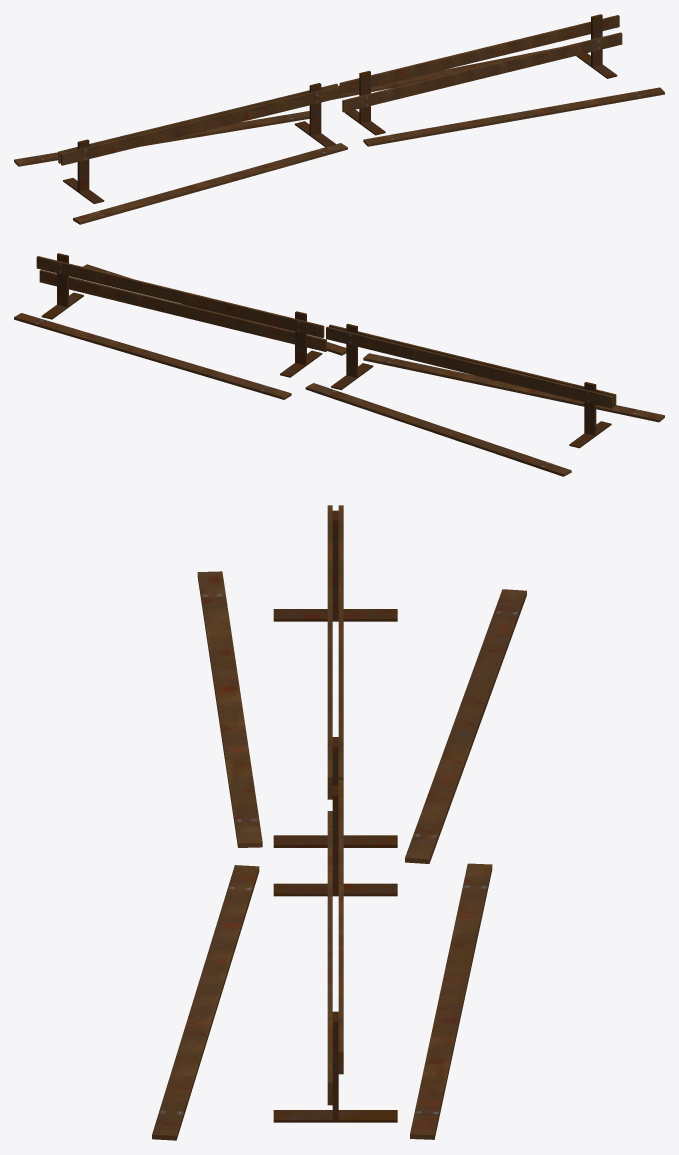
The model's file is Object_Fence_Damaged.fbx.
The picture shows the model from 3 angles, top to bottom: view 1: azimuth 30°, elevation 25°; view 2: azimuth 150°, elevation 25°; view 3: azimuth 270°, elevation 25°; orthographic projection. The views are drawn at different scales.
Visible parts, largest first — view 1: Object_Fence_Damaged; view 2: Object_Fence_Damaged; view 3: Object_Fence_Damaged.
Boxes of the visible parts, x1,y1,x2,y2 form: Object_Fence_Damaged: [14, 14, 664, 224]; Object_Fence_Damaged: [14, 253, 664, 476]; Object_Fence_Damaged: [152, 505, 526, 1140].
Size of the model in its own units: 18.4 by 1.54 by 5.19.
